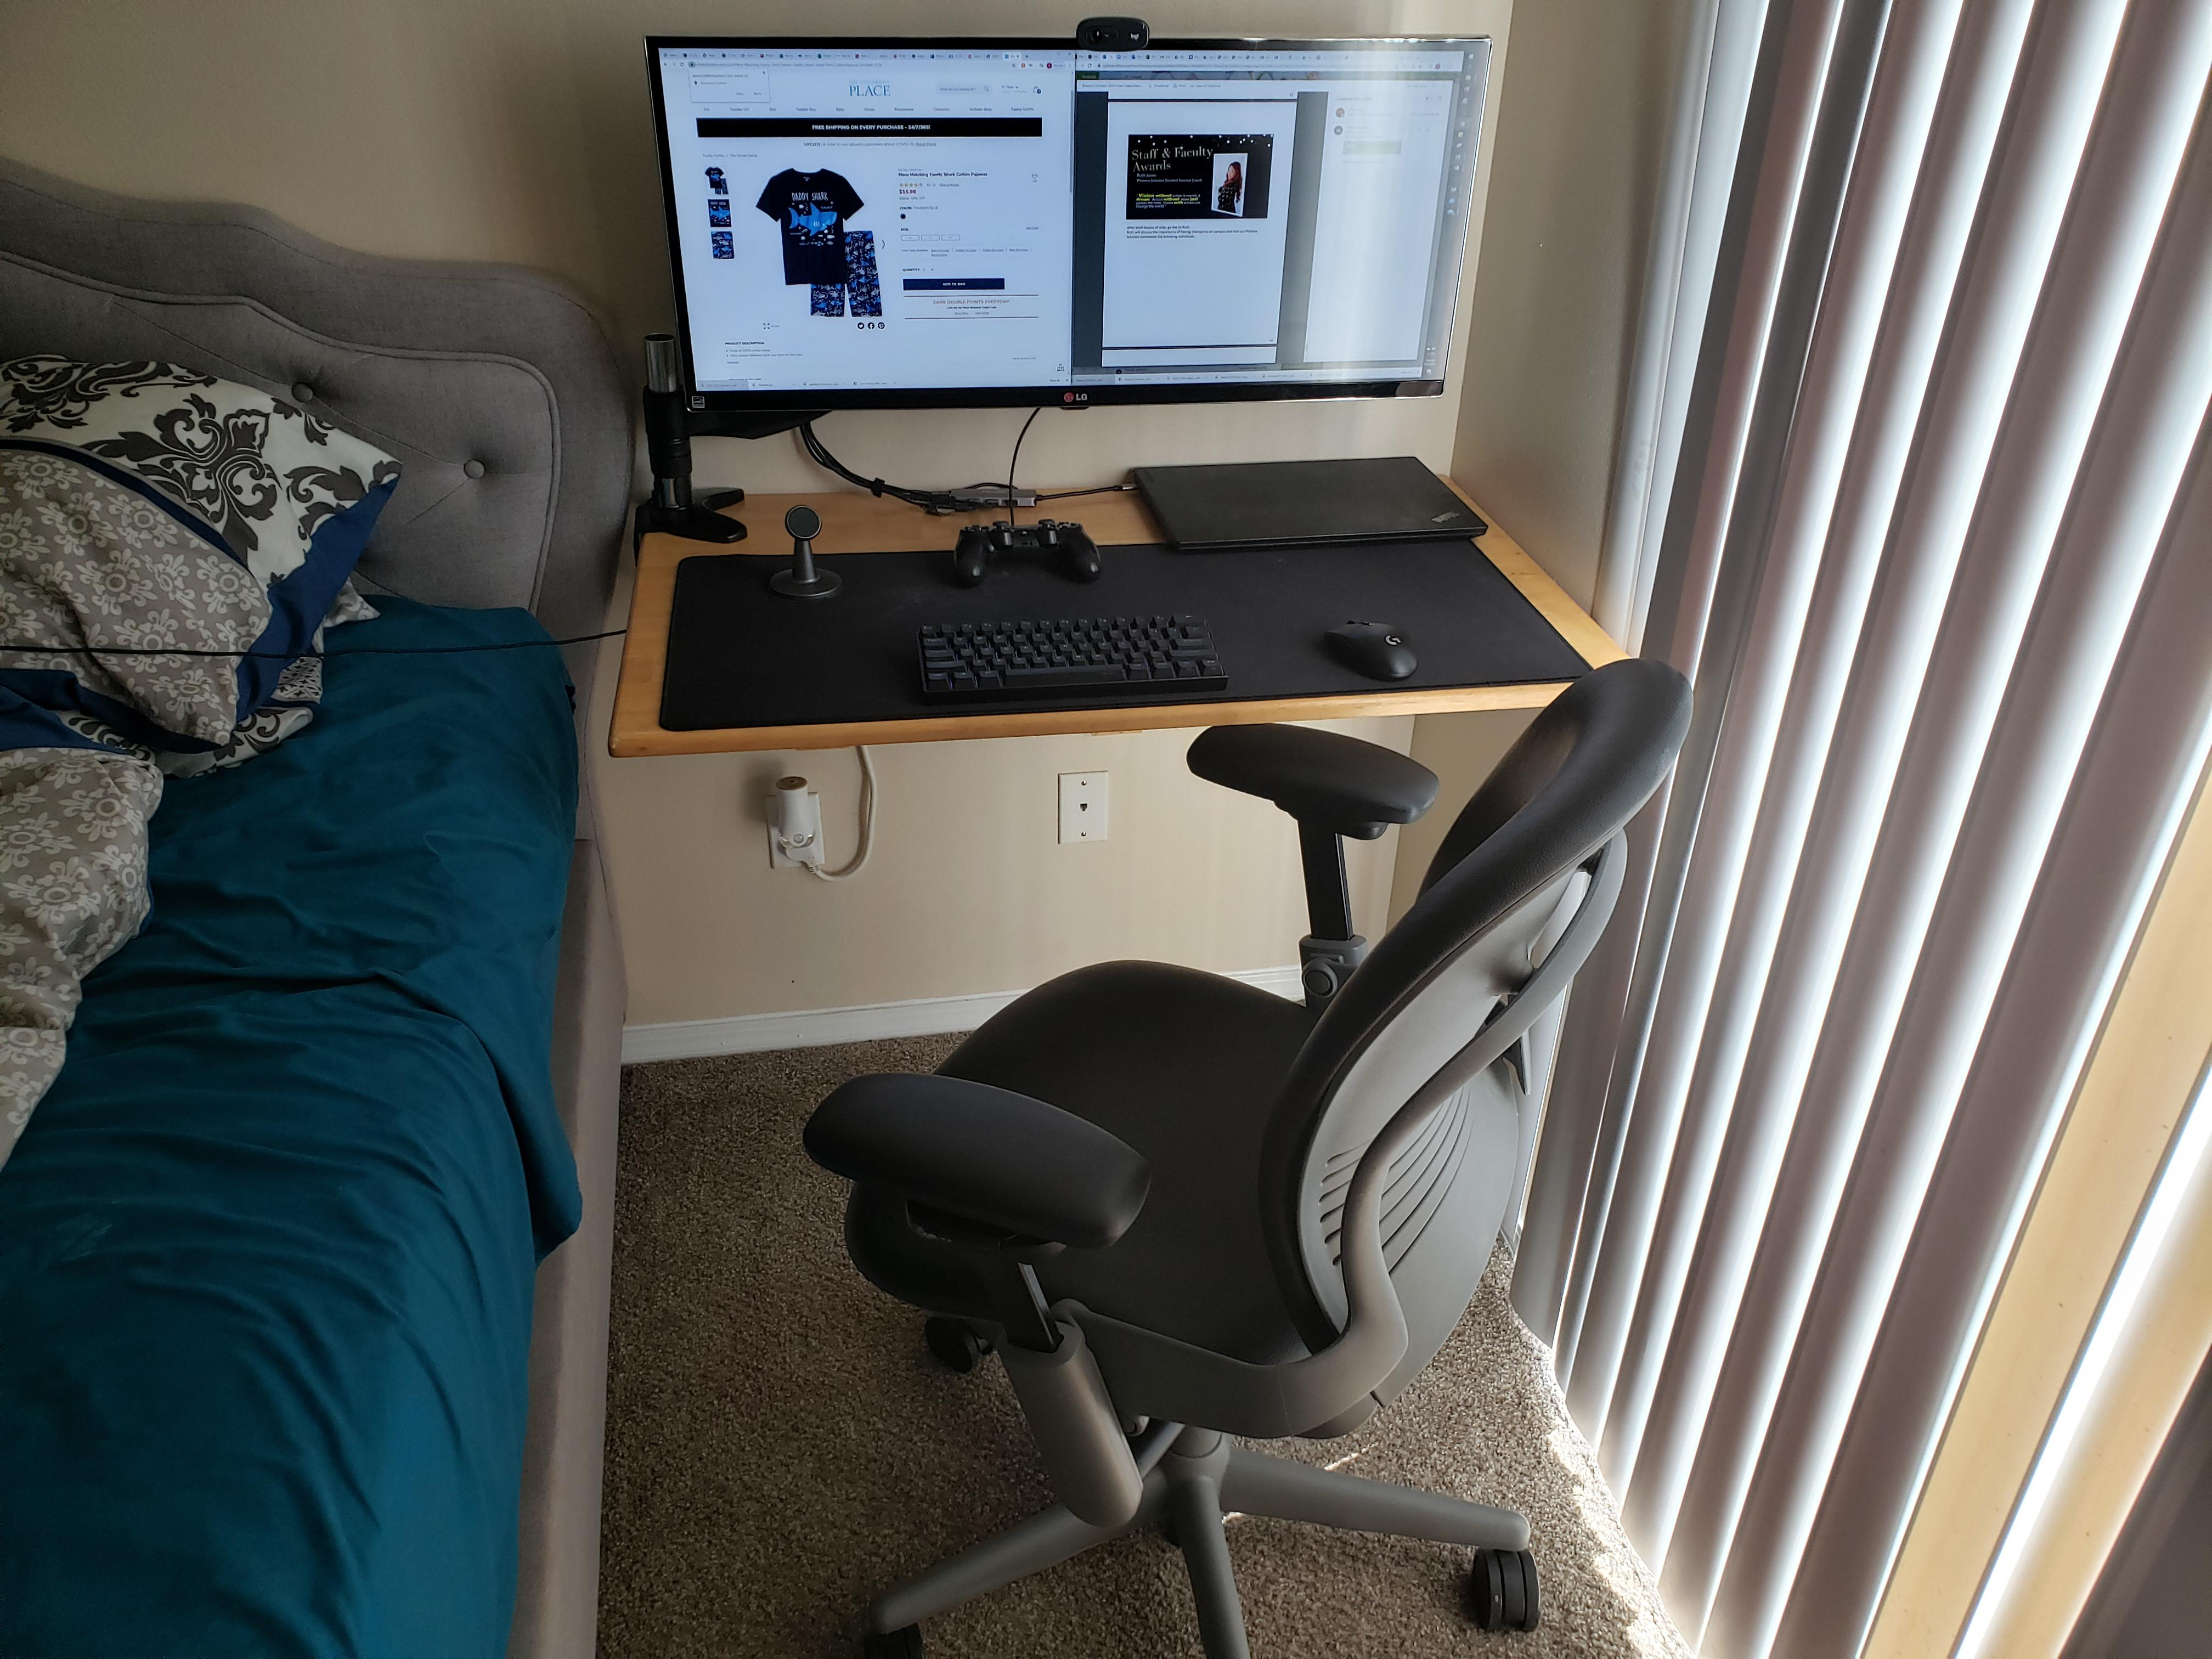Chair (Generic): (761, 647, 1728, 1643)
External Webcam: (1057, 5, 1160, 56)
Gaming Controller: (944, 500, 1123, 594)
Keyboard (Generic): (900, 608, 1231, 709)
Laptop (Linux): (1123, 451, 1500, 563)
Monitor (Landscape): (632, 24, 1494, 416)
Monitor Arm: (617, 300, 857, 566)
Mouse (Gaming): (1310, 606, 1433, 688)
Mousepad (Gaming): (662, 518, 1611, 714)
